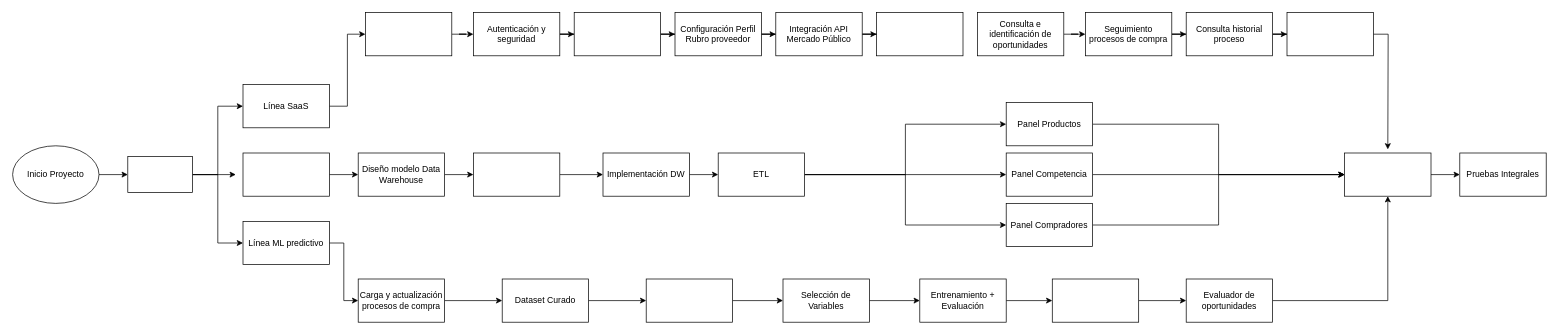
Image size: 1559x335. Some labels were removed from this diagram. The shapes that lost their labels are listed below. From the top down, each one's box as (x1, y1, x2, y2) in pixels, then its label:
(365, 12, 452, 56): Diseño Modelo de datos SaaS
(573, 12, 661, 56): Interfaz de usuario
(876, 12, 963, 56): Motor de oportunidades
(1286, 12, 1373, 56): Motor de Notificaciones
(127, 156, 193, 193): Arquitectura + configuración entorno
(242, 152, 329, 196): Línea Dashboard
(473, 152, 560, 196): Diseño Modelo Dimensional
(1344, 152, 1431, 196): Integración Plataforma
(645, 278, 733, 322): Análisis exploratorio de datos (EDA)
(1052, 278, 1139, 322): Modelo seleccionado predicción adjudicación
